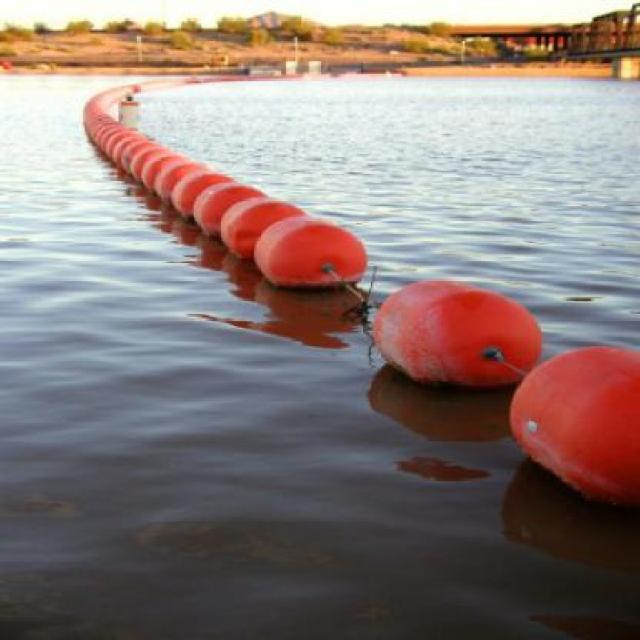a: (370, 266, 553, 402), (506, 342, 640, 517), (238, 194, 373, 311), (133, 146, 257, 271), (61, 89, 146, 176)
